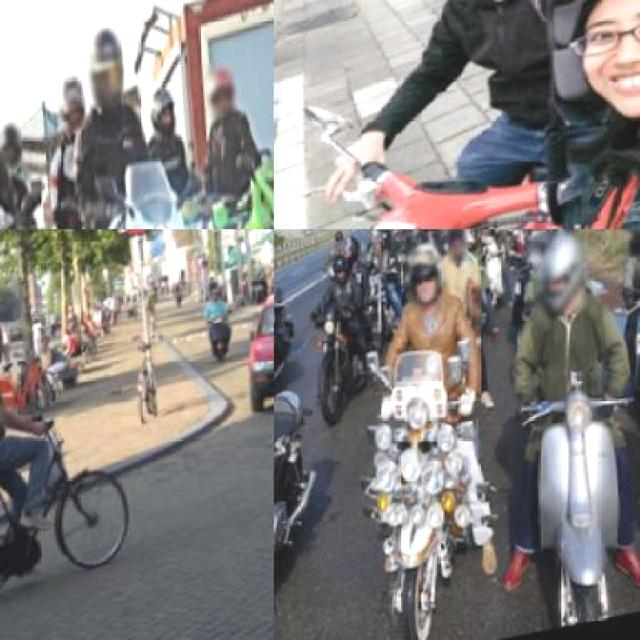With Helmet: (528, 0, 638, 146), (528, 233, 594, 329), (402, 240, 458, 331), (81, 29, 130, 120), (202, 68, 242, 132), (55, 70, 90, 142), (145, 85, 181, 148), (0, 117, 29, 180), (339, 236, 367, 276), (328, 254, 355, 294), (616, 229, 638, 271)
Without Helmet: (444, 230, 474, 276), (0, 318, 12, 376)
